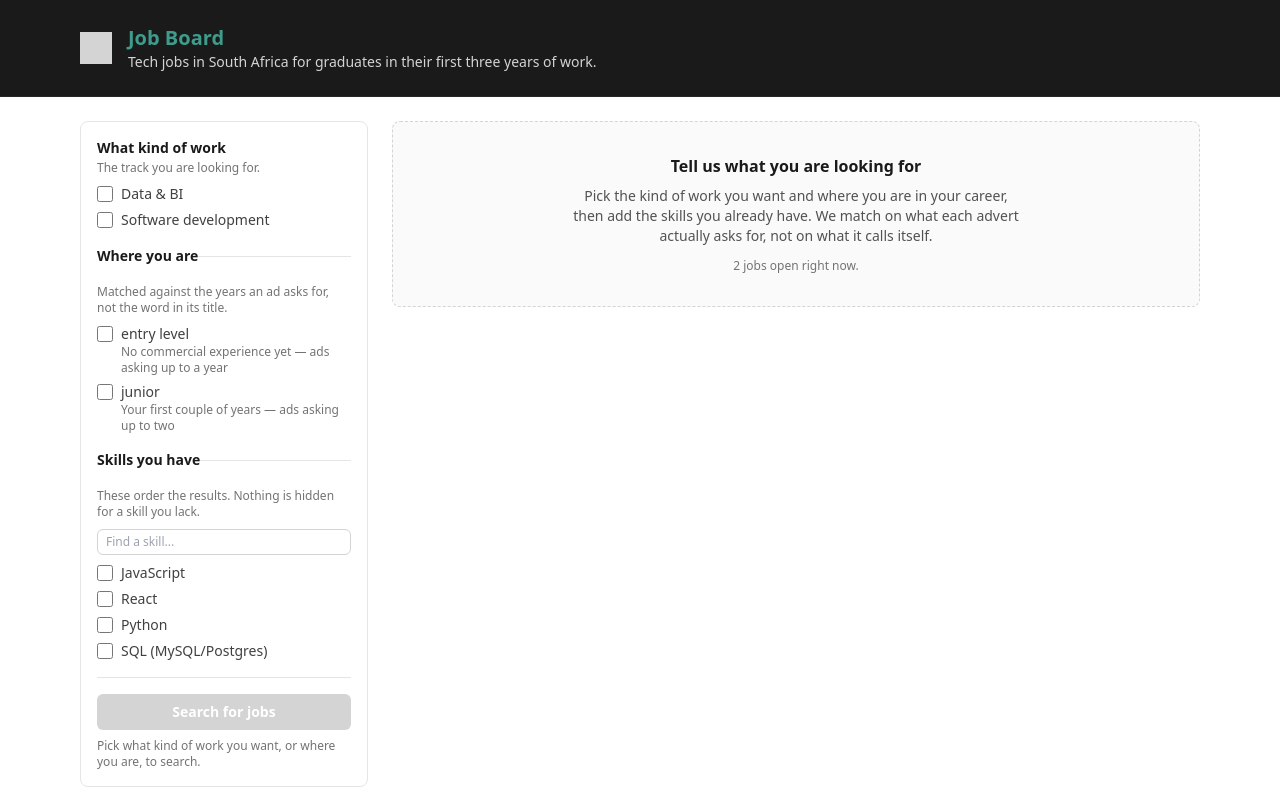
it: App › shows the jobs on the track the student chose, and only those
This screenshot has width=1280, height=800.
Expected: the text "2 jobs open right now." is shown, [733,257,859,274]
Click the checkbox labelled "Software development" at (105, 220), box [97,212,113,228]
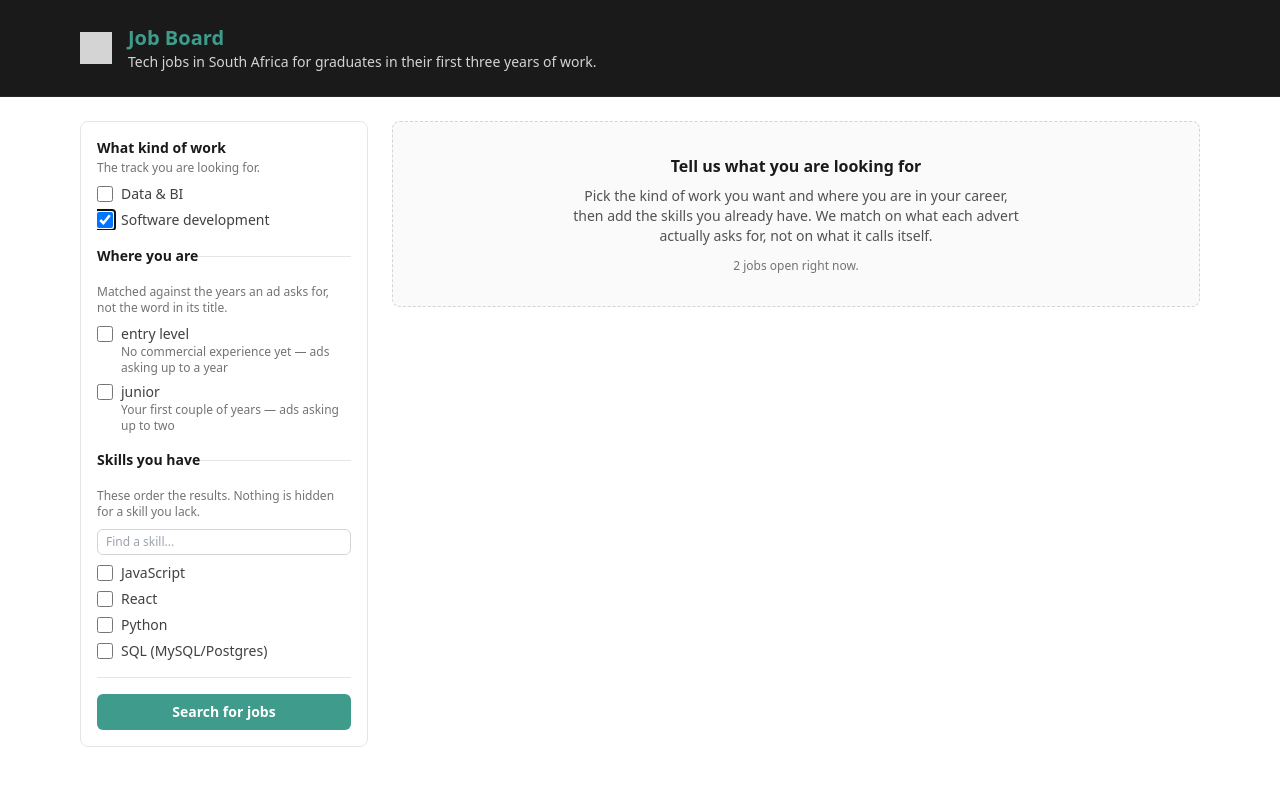
Click the button "Search for jobs" at (224, 712), box [97,694,351,730]
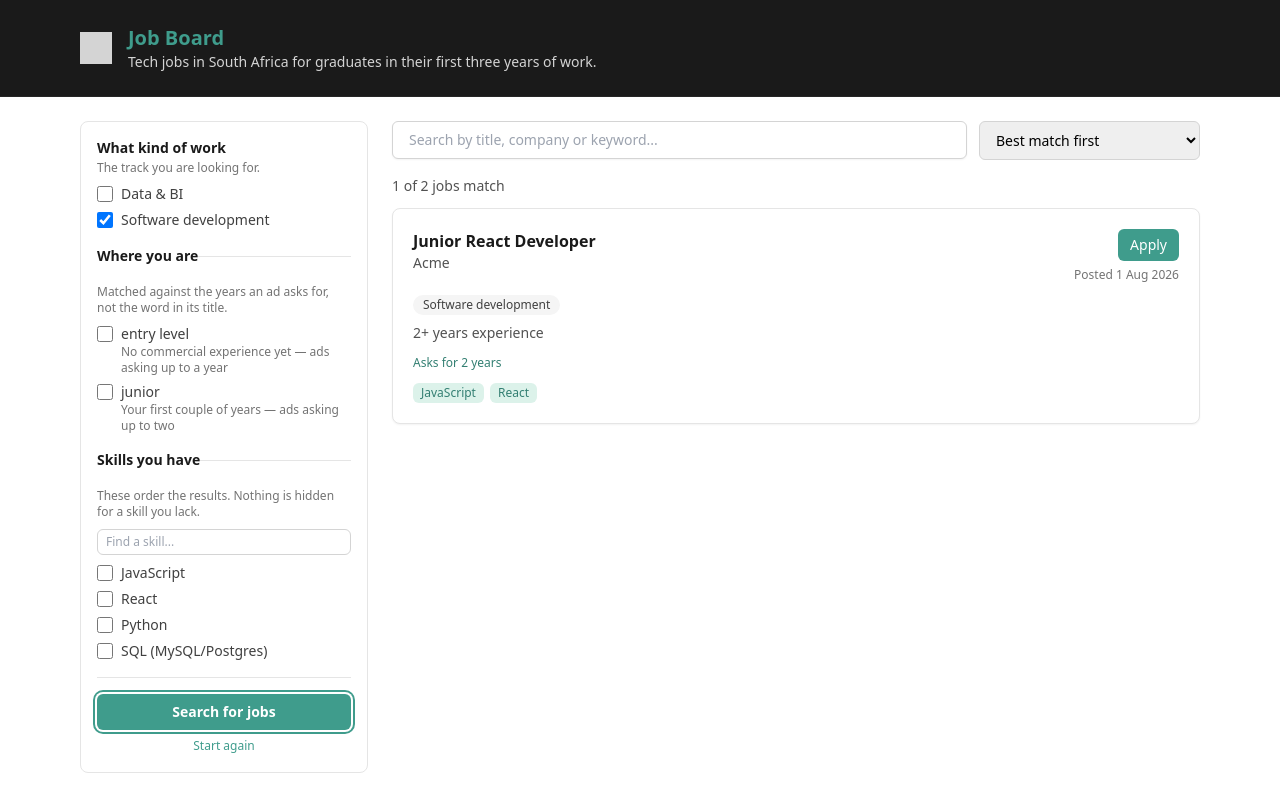
Expected: the text "1 of 2 jobs match" is shown, [392,176,505,195]
Expected: the heading "Junior React Developer" is shown, [413,229,596,253]
